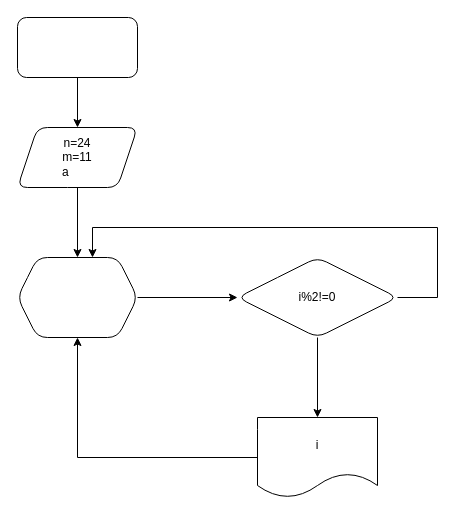
Some shapes in this 463 by 515 pixel diagram are drawn without their labels. The centre of each missing label's shape, as x and y in pixels:
i=11;i<24;i++: [77,297]
start: [77,47]
